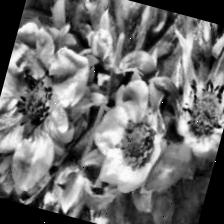Blossom Blight: (4, 60, 68, 146), (170, 71, 224, 151)
